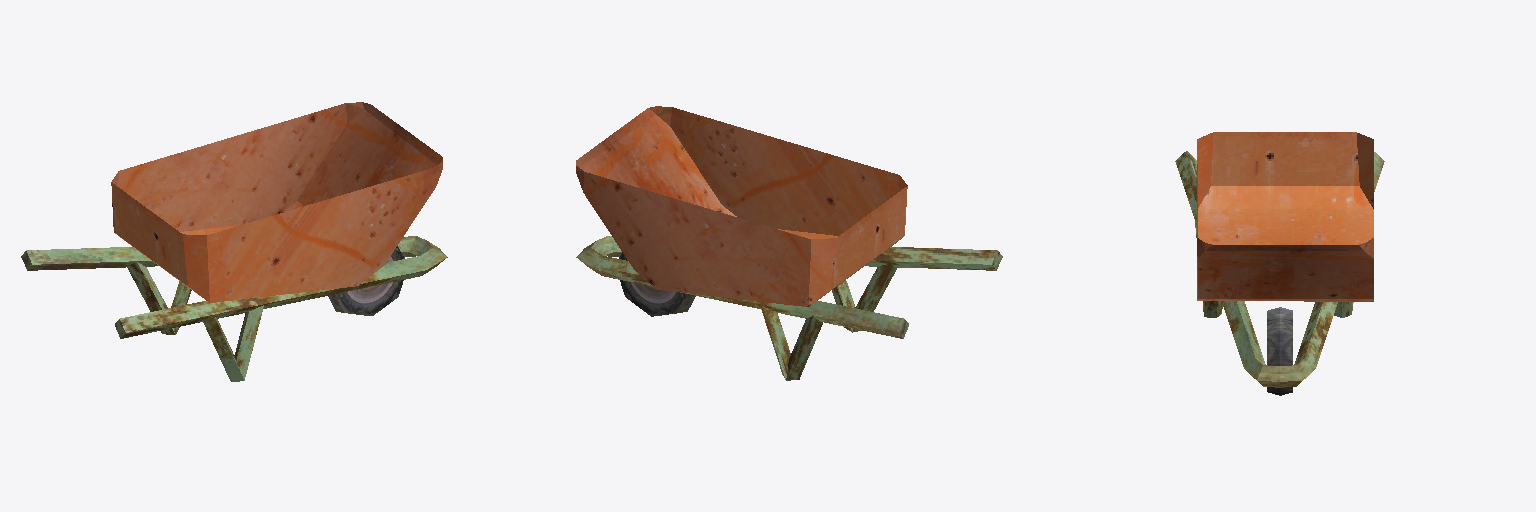
The picture shows the model from 3 angles: view 1: azimuth 30°, elevation 25°; view 2: azimuth 150°, elevation 25°; view 3: azimuth 270°, elevation 25°; orthographic projection.
Parts seen in each view (by area): view 1: pCube1; view 2: pCube1; view 3: pCube1.
Boxes of the visible parts, x1,y1,x2,y2 form: pCube1: [21, 102, 447, 381]; pCube1: [576, 106, 1002, 380]; pCube1: [1175, 132, 1384, 395].
Bounding box in the file's own units: 7.38 × 3.32 × 3.66.
1 materials, 1 textured.